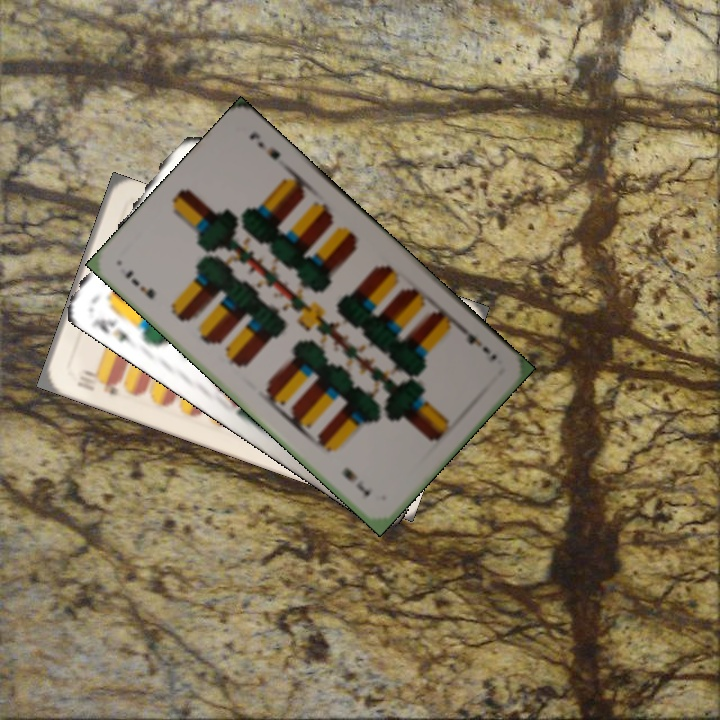E10: (72, 371, 123, 398)
E7: (455, 321, 500, 365), (121, 265, 158, 302)
EK: (91, 314, 138, 347)
